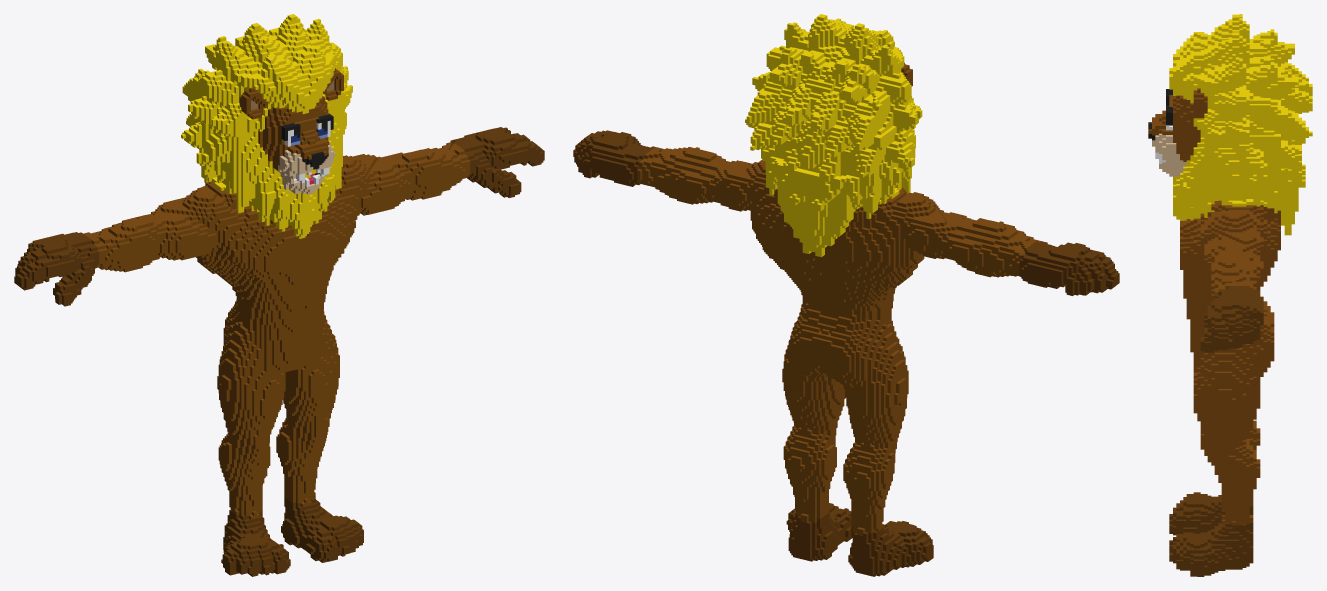
File: 864-BbR0wqBO.glb
3 renders of one model, left to right at view 1: azimuth 30°, elevation 25°; view 2: azimuth 150°, elevation 25°; view 3: azimuth 270°, elevation 25°, orthographic. The views are drawn at different scales.
Parts seen in each view (by area): view 1: open; view 2: open; view 3: open.
Boxes of the visible parts, box(x1,y1,x2,y2) form: open: box(14, 14, 544, 576); open: box(573, 14, 1119, 576); open: box(1148, 14, 1312, 576).
Size of the model in its own units: 17.2 by 16.5 by 4.7.
4 materials, 4 textured.
